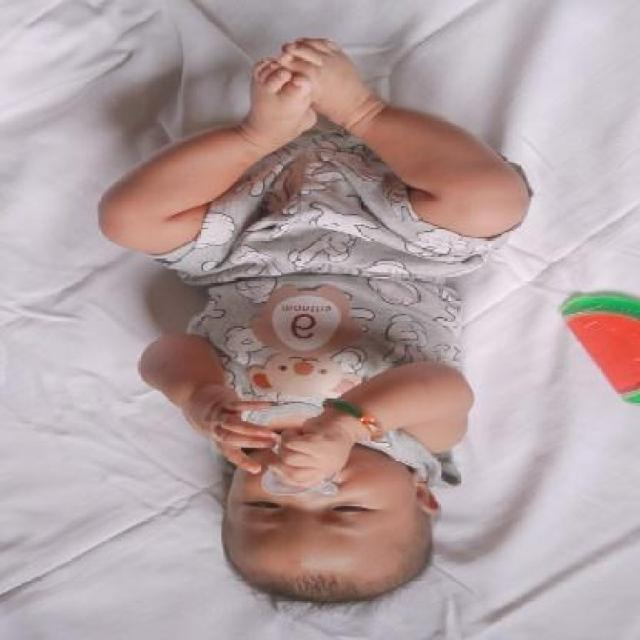baby: (96, 37, 535, 608)
